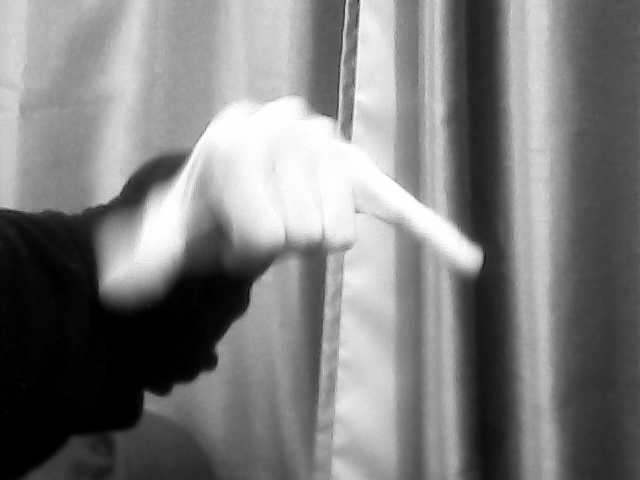aloha: (98, 92, 486, 312)
